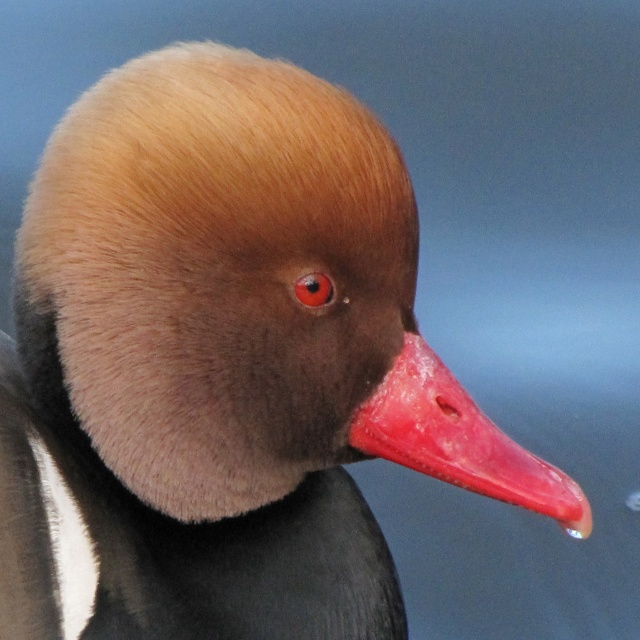Duck: (0, 60, 591, 614)
